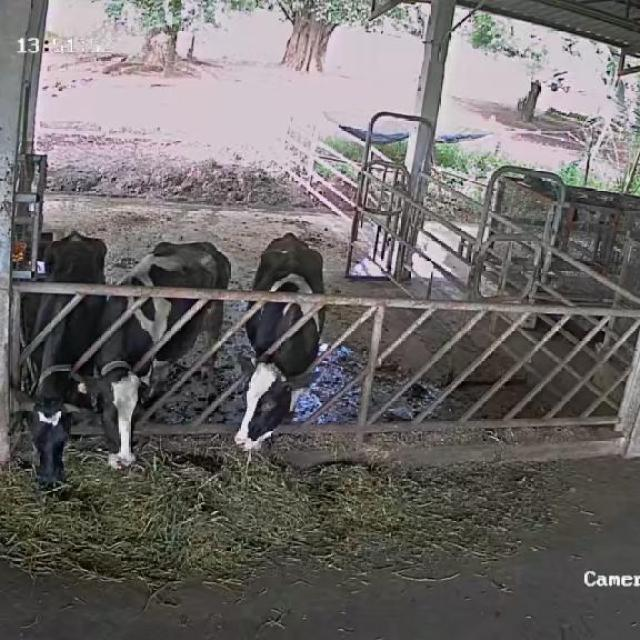feeding: (81, 243, 235, 467), (14, 231, 109, 487), (228, 232, 328, 464)
